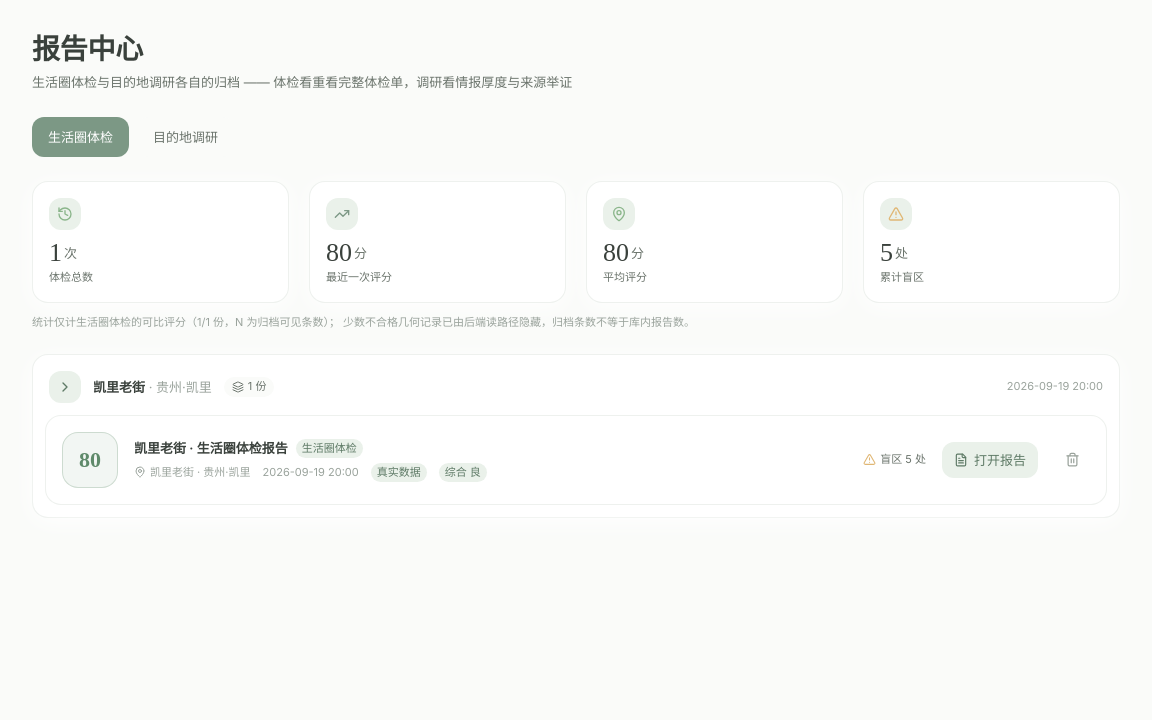
Test: 报告中心 · 删除归档记录 › 取消 → 一个删除请求都不发
Expected: the button "凯里老街 · 生活圈体检报告" is shown, x1=134 y1=438 x2=288 y2=459
What coordinates should you click on to do the following:
click the button named "删除生活圈体检"
I would click on:
 (1072, 460)
Its box is x1=1054 y1=442 x2=1090 y2=478.
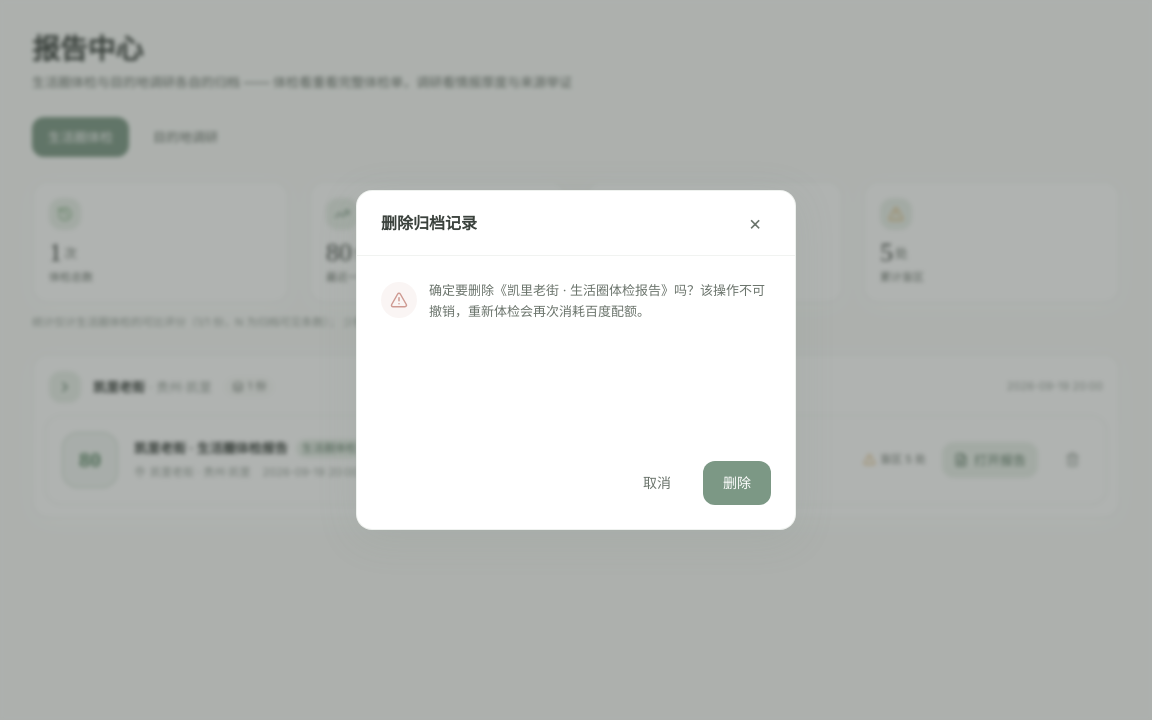
Now the dialog is shown
Now the text "确定要删除《凯里老街 · 生活圈体检报告》吗？该操作不可撤销，重新体检会再次消耗百度配额。" is shown, box x1=429 y1=280 x2=771 y2=322
What coordinates should you click on to do the following:
click the button "取消"
I would click on:
 (657, 483)
Its box is x1=623 y1=461 x2=691 y2=505.
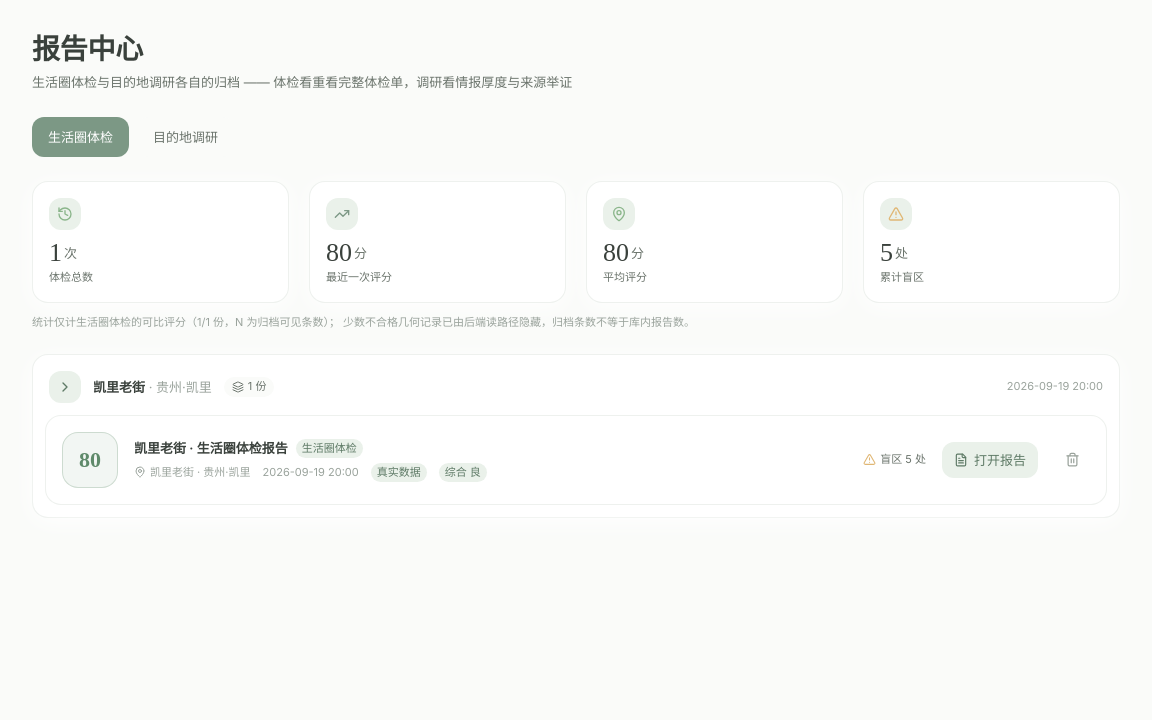
Now the dialog is gone
